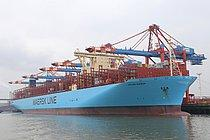Ship: (6, 22, 205, 121)
